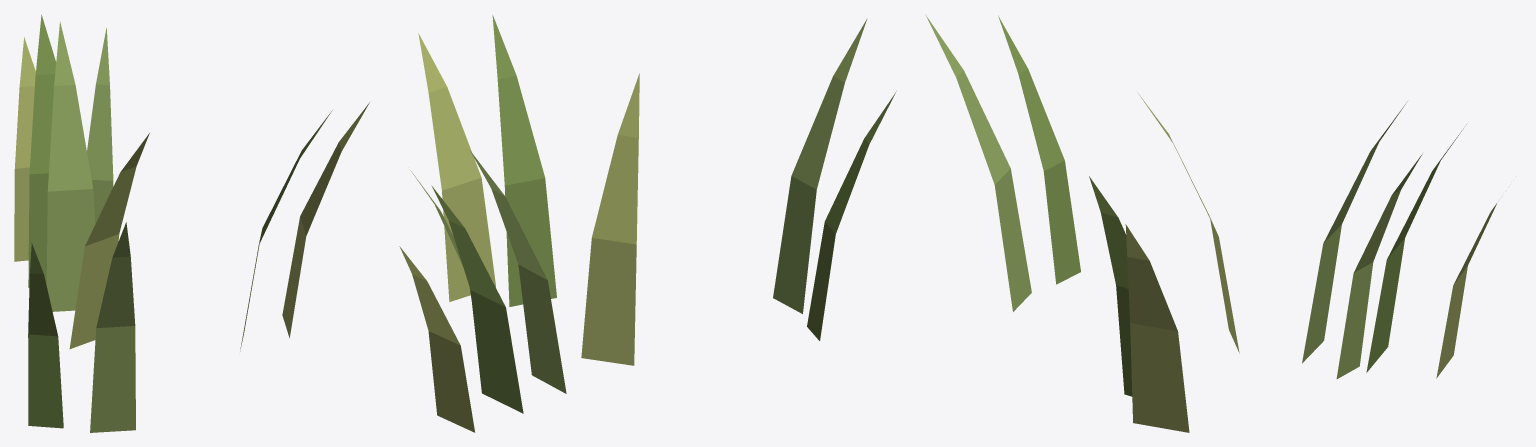
Rendered from SM_WL_NG_GrassSmall.fbx.
3 renders of one model, left to right at view 1: azimuth 30°, elevation 25°; view 2: azimuth 150°, elevation 25°; view 3: azimuth 270°, elevation 25°, orthographic. The views are drawn at different scales.
Visible parts, largest first — view 1: HH_Q2_GrassSmall; view 2: HH_Q2_GrassSmall; view 3: HH_Q2_GrassSmall.
Part boxes in pixels (x1,y1,x2,y2): HH_Q2_GrassSmall: [14, 14, 369, 432]; HH_Q2_GrassSmall: [399, 15, 896, 432]; HH_Q2_GrassSmall: [926, 15, 1496, 432].
Size of the model in its own units: 0.4051 by 0.3386 by 0.2037.
